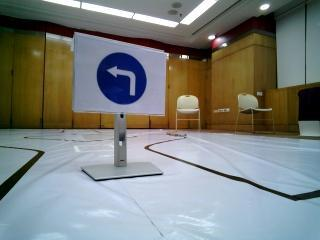left: (83, 44, 163, 112)
